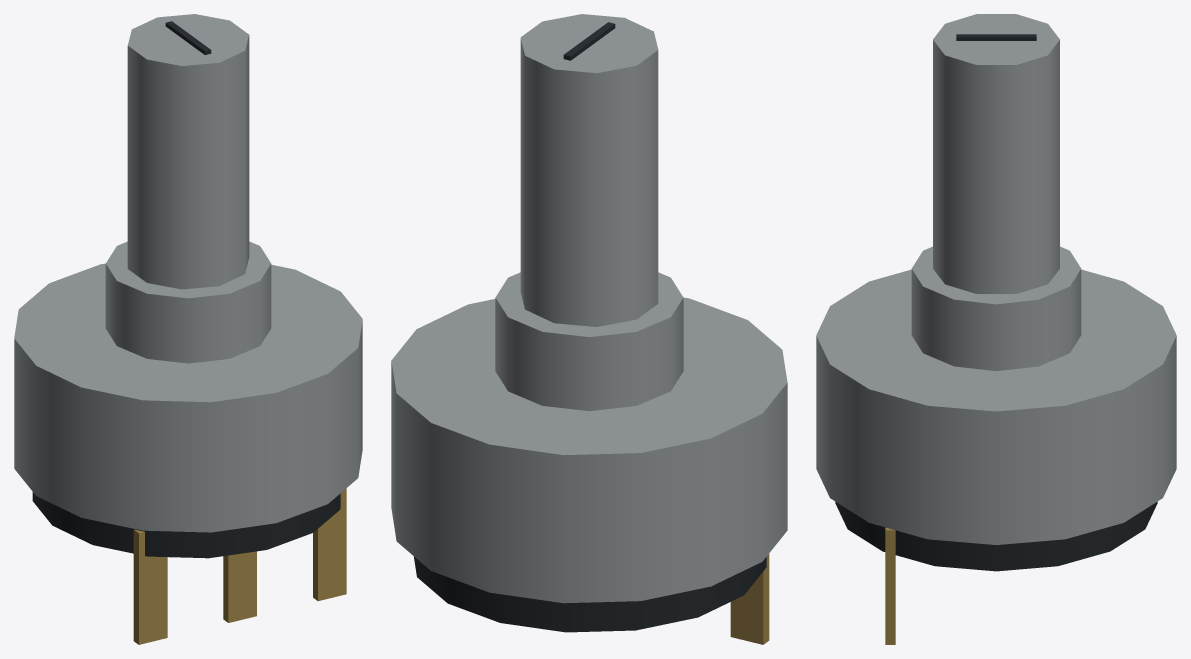
Rendered from cmp-potentiometer.glb.
3 views of the same model, side by side, from view 1: azimuth 30°, elevation 25°; view 2: azimuth 150°, elevation 25°; view 3: azimuth 270°, elevation 25° (orthographic). The views are drawn at different scales.
Visible parts, largest first — view 1: STATIC_metal, STATIC_paint; view 2: STATIC_metal, STATIC_paint; view 3: STATIC_metal, STATIC_paint.
Part boxes in pixels (x1,y1,x2,y2): STATIC_metal: (14, 14, 362, 644); STATIC_paint: (32, 21, 340, 558); STATIC_metal: (391, 14, 787, 644); STATIC_paint: (413, 22, 766, 632); STATIC_metal: (816, 14, 1176, 644); STATIC_paint: (835, 34, 1157, 571).
Size of the model in its own units: 0.017 by 0.029 by 0.017.
